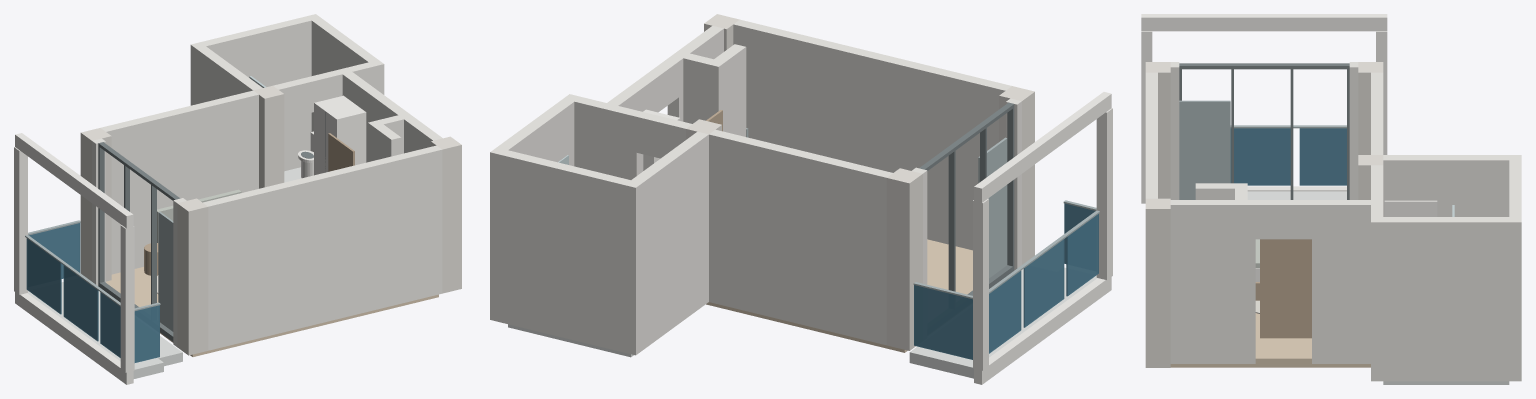
File: apartment.glb
3 renders of one model, left to right at view 1: azimuth 30°, elevation 25°; view 2: azimuth 150°, elevation 25°; view 3: azimuth 270°, elevation 25°, orthographic. The views are drawn at different scales.
Visible parts, largest first — view 1: South party wall, North party wall, Bathroom north wall, Balcony glass (×3), SW Column, SE Column, Wardrobe, Bathroom east wall, Inner corner Column, NW Column, Balcony soffit, White balcony fascia (+22 smaller); view 2: North party wall, South party wall, Bathroom north wall, Bathroom west wall, Balcony glass (×3), NW Column, Bathroom south wall, Balcony north glass, Balcony soffit, Bathroom east wall, White balcony fascia, Angled facade pier north (+18 smaller); view 3: Bathroom east wall, East wall south, East wall north, Bathroom west wall, Balcony glass (×2), Entrance open door, Balcony open door, Balcony soffit, SE Column, Bathroom north wall, Studio floor, Entrance lintel (+18 smaller).
Boxes of the visible parts, x1,y1,x2,y2 form: South party wall: (203,145,442,350); North party wall: (100,90,258,274); Bathroom north wall: (190,14,321,171); Balcony glass (×3): (26,238,120,357); SW Column: (177,198,208,355); SE Column: (431,136,461,293); Wardrobe: (314,95,366,175); Bathroom east wall: (311,18,384,131); Inner corner Column: (253,85,284,188); NW Column: (80,128,111,281); Balcony soffit: (15,133,133,228); White balcony fascia: (15,292,133,384); North party wall: (709,129,892,345); South party wall: (733,19,1011,250); Bathroom north wall: (490,147,642,355); Bathroom west wall: (631,131,708,349); Balcony glass (×3): (989,214,1098,353); NW Column: (886,168,922,350); Bathroom south wall: (574,97,643,179); Balcony north glass: (914,285,972,359); Balcony soffit: (974,92,1111,202); Bathroom east wall: (497,94,580,166); White balcony fascia: (974,277,1111,384); Angled facade pier north: (973,198,988,370); Bathroom east wall: (1371,217,1509,381); East wall south: (1170,200,1255,363); East wall north: (1312,200,1370,363); Bathroom west wall: (1383,155,1509,216); Balcony glass (×2): (1230,128,1346,185); Entrance open door: (1260,239,1311,338); Balcony open door: (1179,100,1230,199); Balcony soffit: (1141,14,1387,31); SE Column: (1145,198,1170,367); Bathroom north wall: (1509,155,1521,381); Studio floor: (1170,313,1370,367); Entrance lintel: (1255,200,1311,239).
Size of the model in its own units: 7.38 by 3.28 by 6.08.
